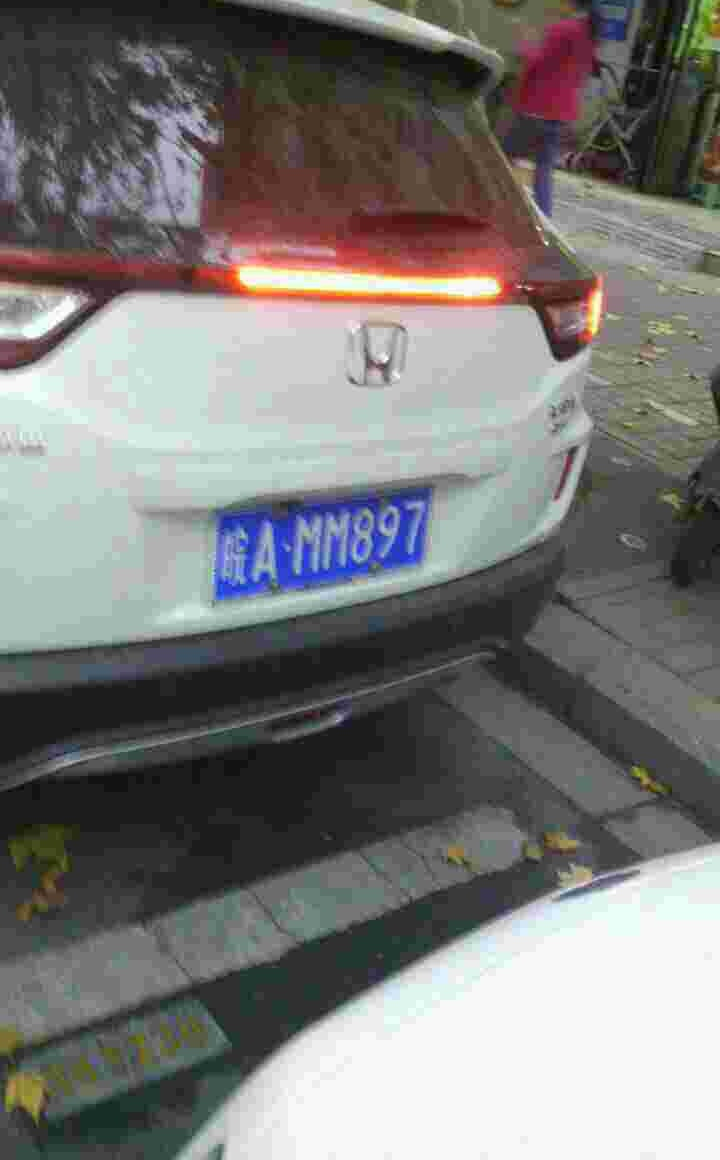car: (215, 509, 456, 583)
